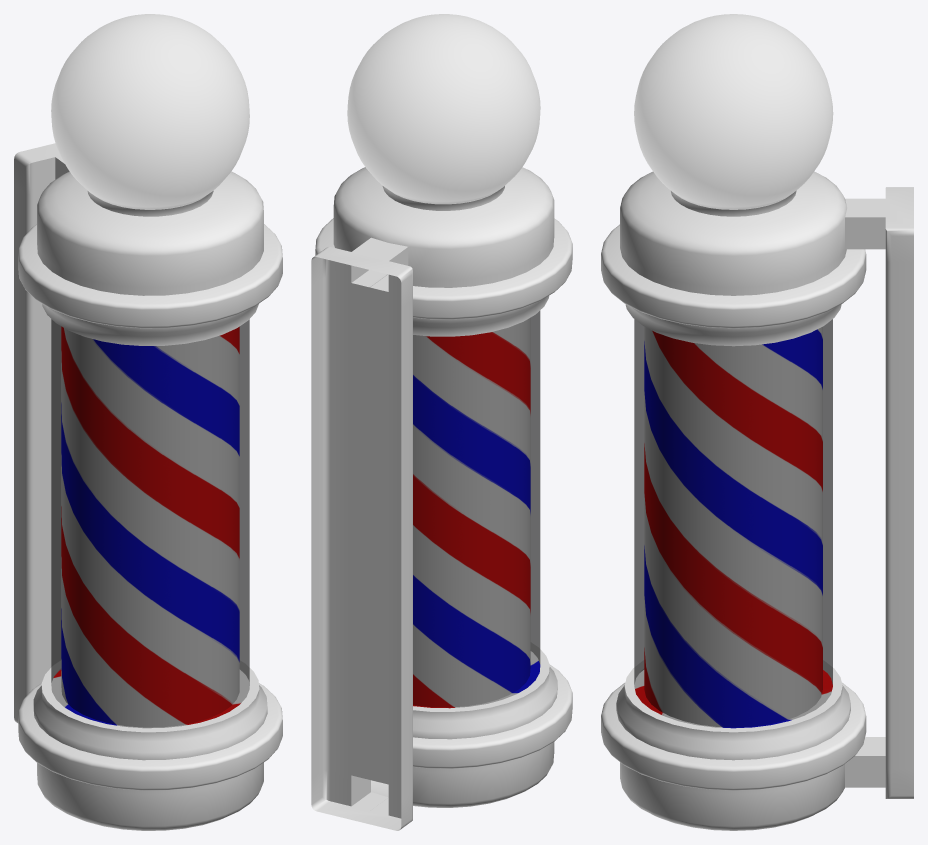
The model's file is barbers_pole.glb.
3 views of the same model, side by side, from view 1: azimuth 30°, elevation 25°; view 2: azimuth 150°, elevation 25°; view 3: azimuth 270°, elevation 25° (orthographic). The views are drawn at different scales.
Visible parts, largest first — view 1: Ouiter, Inner; view 2: Ouiter, Inner; view 3: Ouiter, Inner.
Boxes of the visible parts, x1,y1,x2,y2 form: Ouiter: (14, 14, 282, 830); Inner: (51, 326, 249, 728); Ouiter: (311, 14, 572, 830); Inner: (413, 318, 540, 708); Ouiter: (601, 14, 913, 830); Inner: (634, 327, 832, 728).
Bounding box in the file's own units: 0.7564 × 2.44 × 0.8925.
4 materials, 4 textured.
